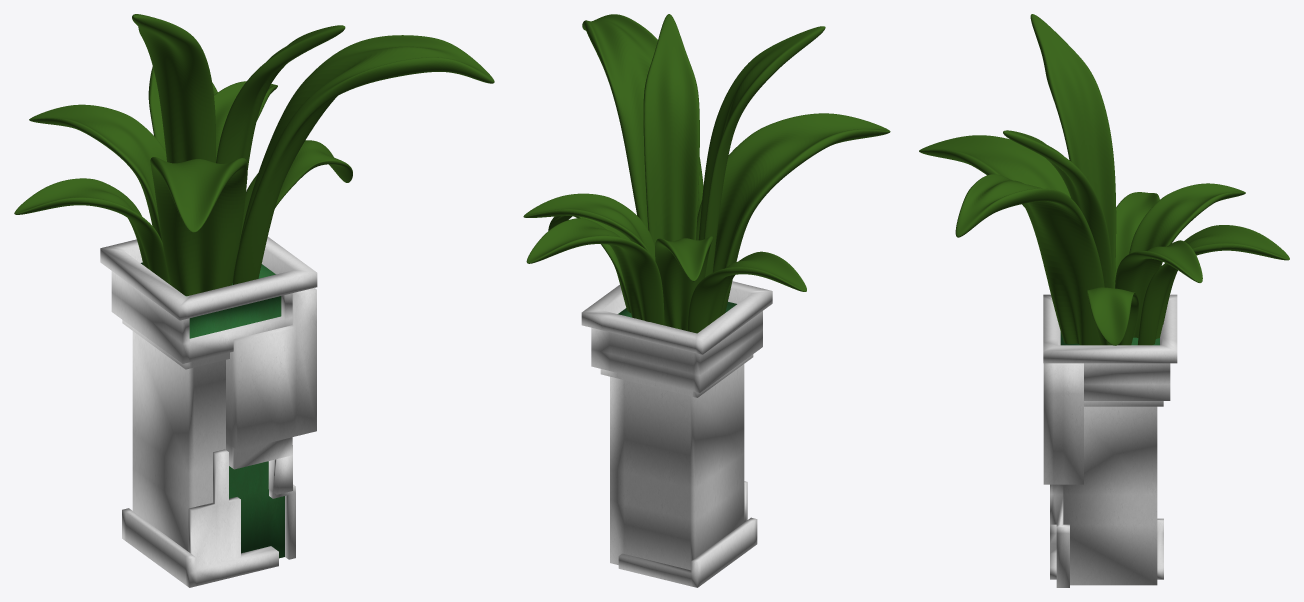
File: marble-pot.glb
3 renders of one model, left to right at view 1: azimuth 30°, elevation 25°; view 2: azimuth 150°, elevation 25°; view 3: azimuth 270°, elevation 25°, orthographic. The views are drawn at different scales.
Parts seen in each view (by area): view 1: Cube.047; view 2: Cube.047; view 3: Cube.047.
Boxes of the visible parts, x1,y1,x2,y2 form: Cube.047: (14, 14, 494, 587); Cube.047: (523, 14, 890, 587); Cube.047: (919, 14, 1289, 587).
Size of the model in its own units: 5.32 by 8.28 by 5.54.
3 materials, 2 textured.
